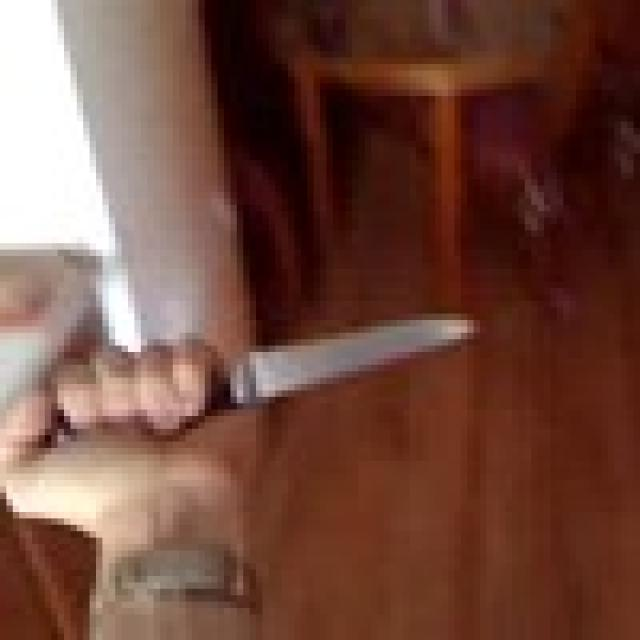Knife: (32, 307, 474, 429)
